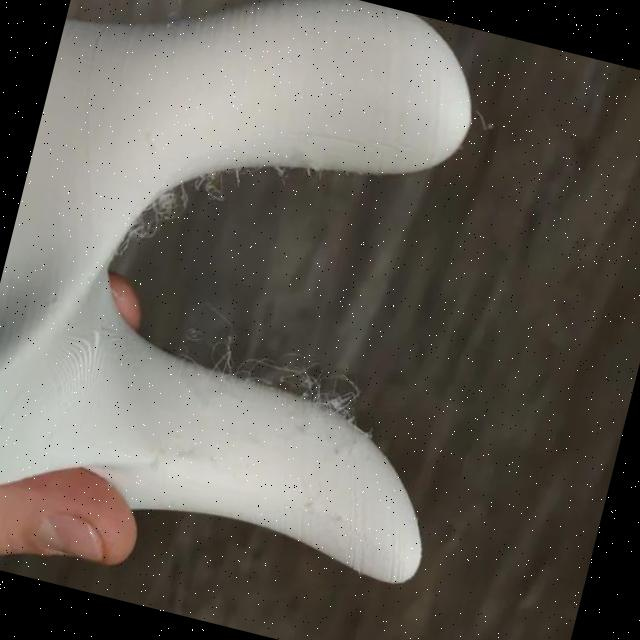stringing: (316, 382, 360, 423), (285, 364, 326, 405), (208, 332, 242, 380), (148, 187, 184, 227), (197, 172, 234, 202), (128, 210, 158, 247)
